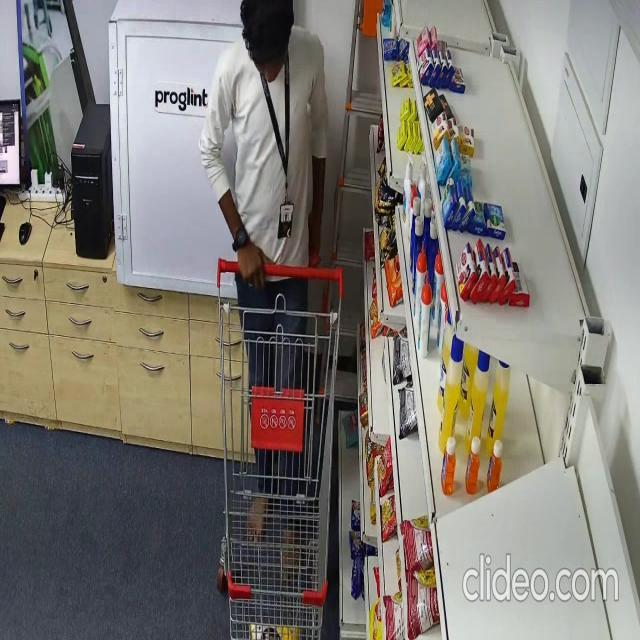Shoplifting: (199, 0, 331, 588)
